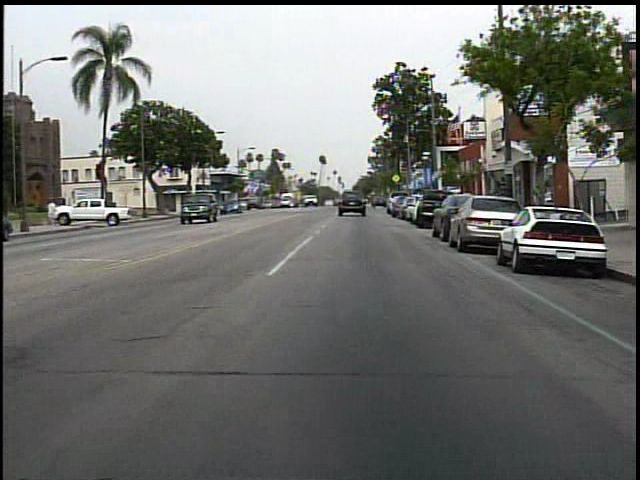person: (345, 188, 368, 219), (47, 198, 61, 227)
